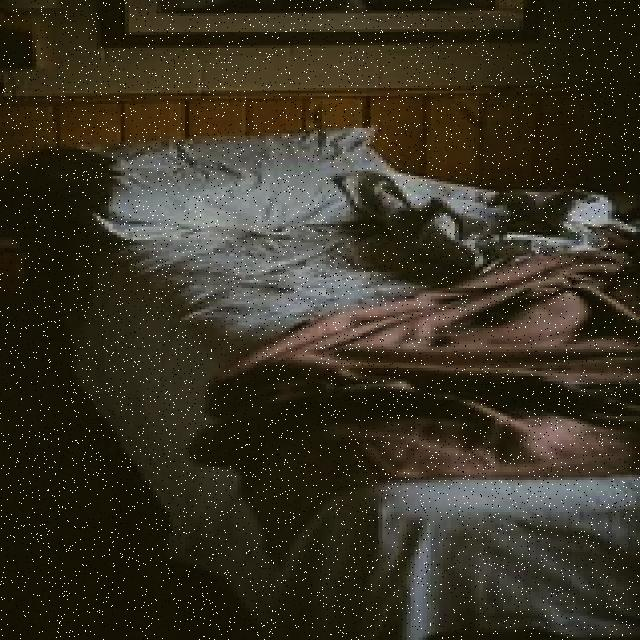bed: (63, 125, 640, 638)
